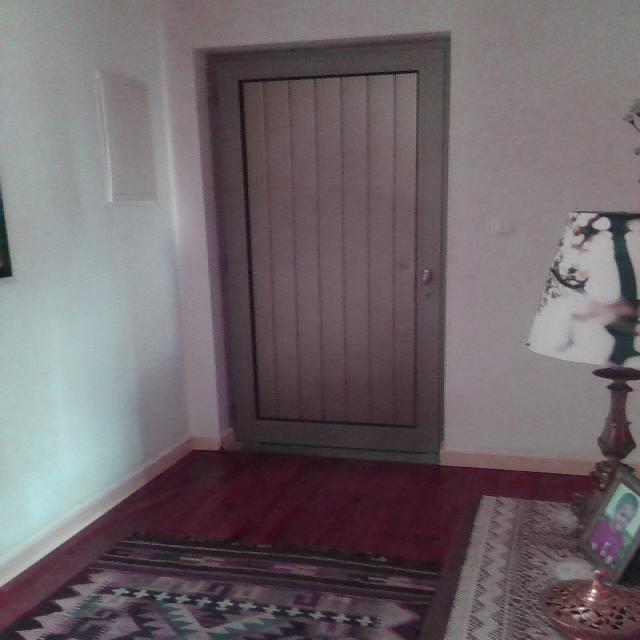door: (206, 34, 449, 463)
